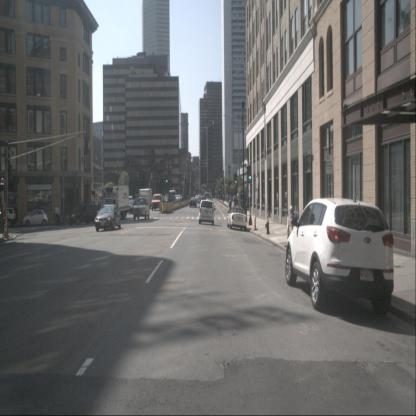cone: (285, 218, 292, 247), (4, 214, 8, 238), (253, 214, 258, 230)
